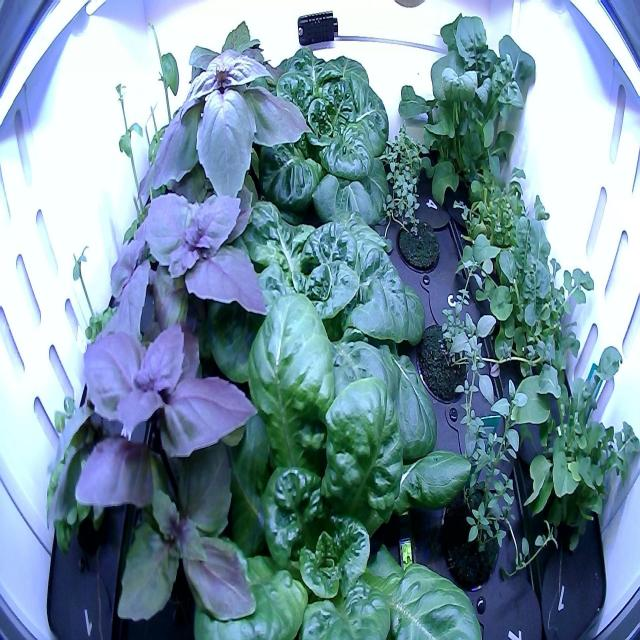Ready: (159, 295, 499, 639), (186, 158, 445, 442), (236, 28, 404, 251)
